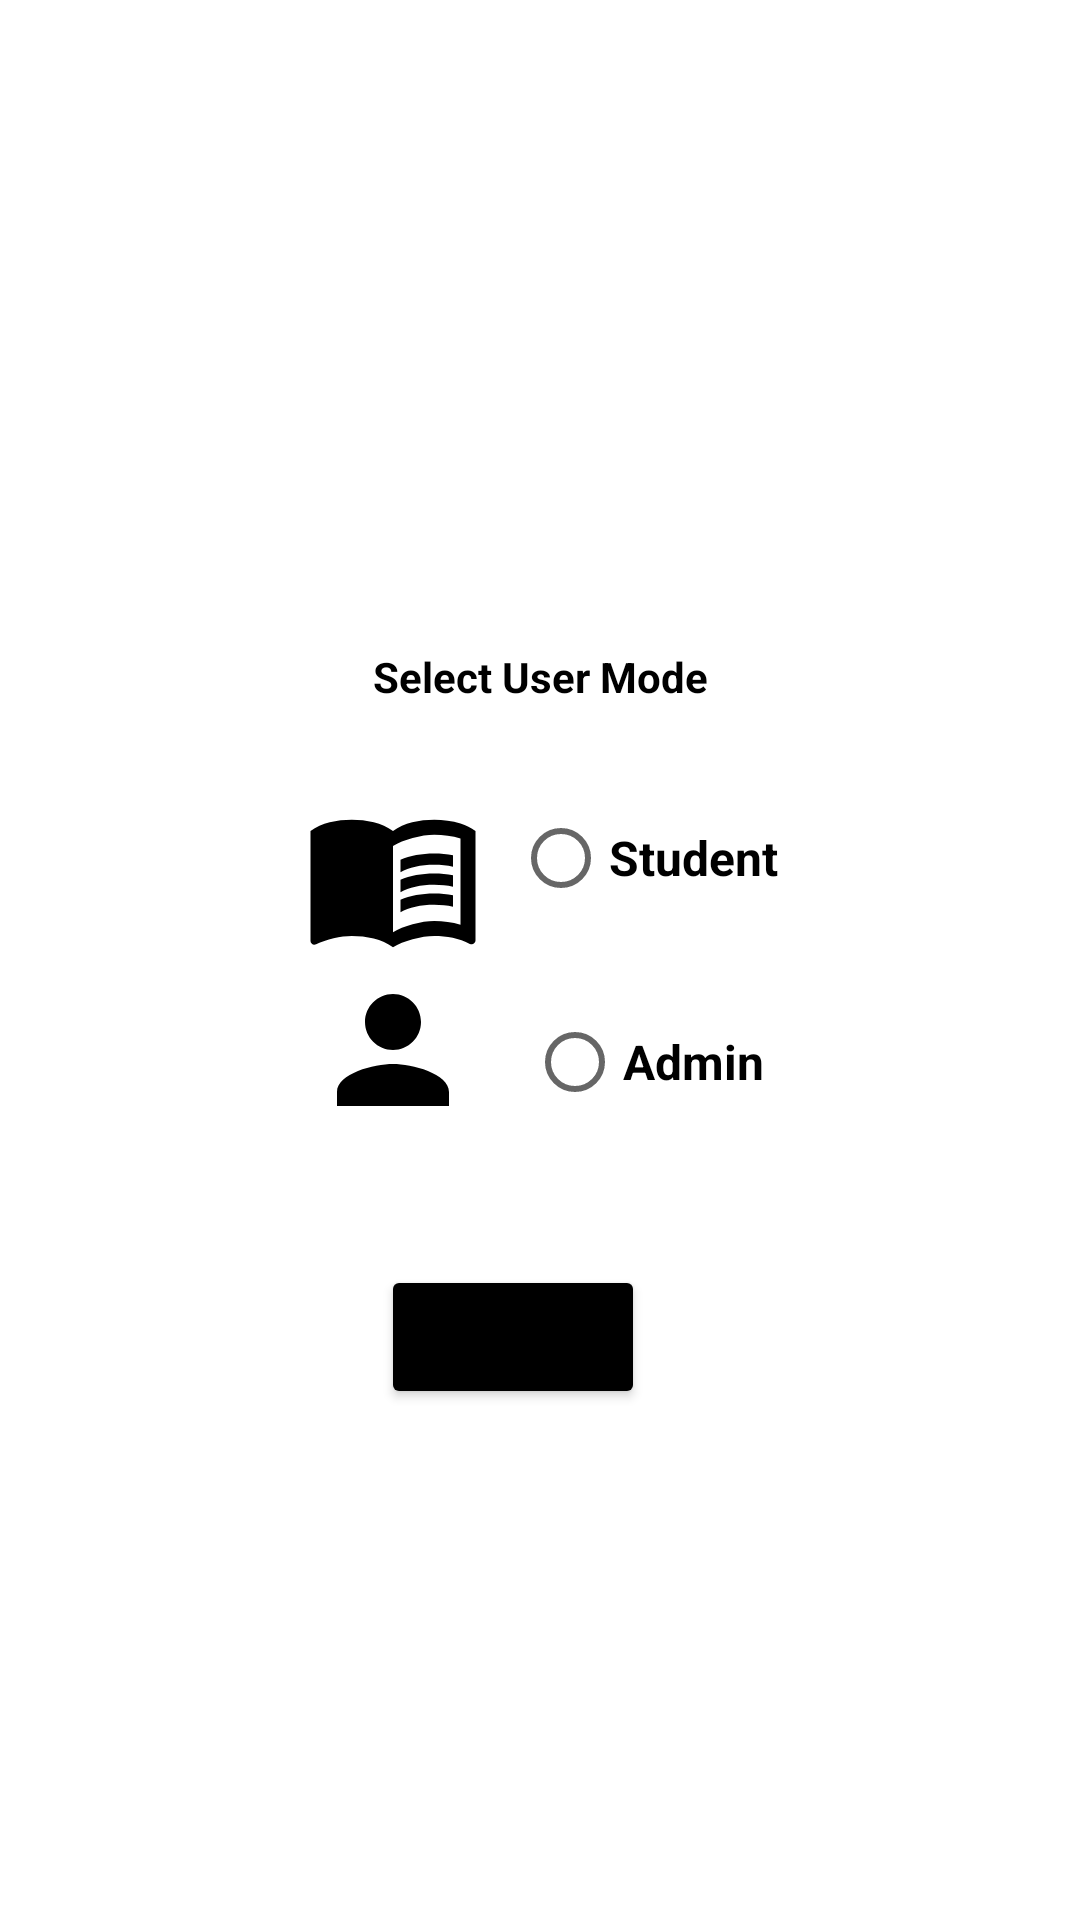

Icon click points for this 1080 x 1920 phone screenshot, format (x=x, y=y):
person: (x=393, y=1050)
